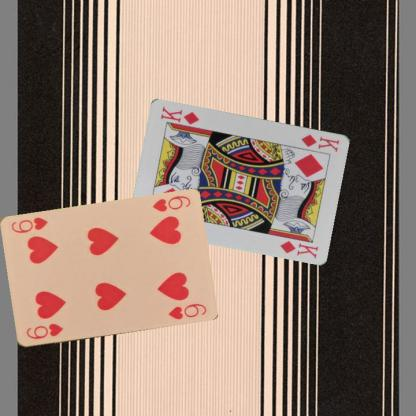6h: (150, 193, 191, 214), (24, 321, 64, 341)
Kd: (299, 131, 341, 153)
